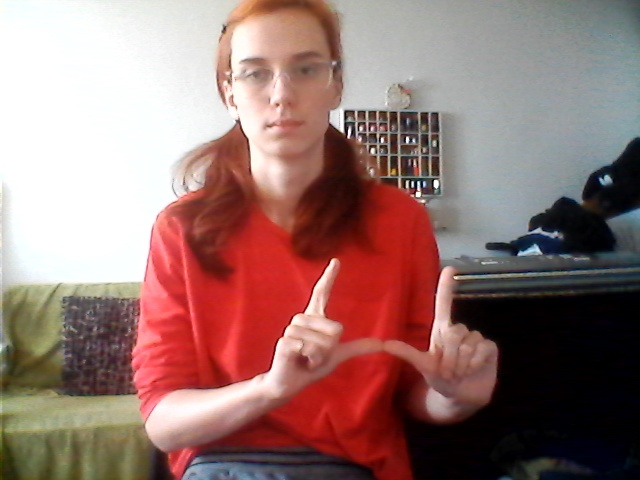u: (268, 253, 509, 421)
